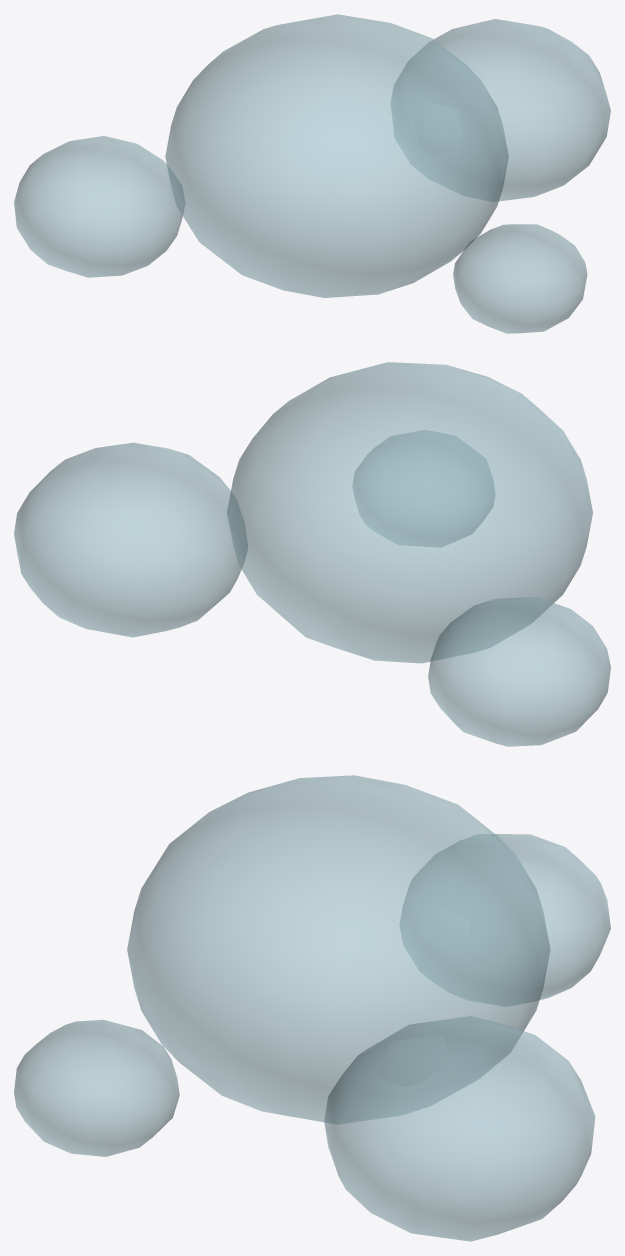
File: glade_dewdrop_cluster_lod1.glb
3 renders of one model, top to bottom at view 1: azimuth 30°, elevation 25°; view 2: azimuth 150°, elevation 25°; view 3: azimuth 270°, elevation 25°, orthographic. The views are drawn at different scales.
Visible parts, largest first — view 1: glade_dewdrop_cluster.001; view 2: glade_dewdrop_cluster.001; view 3: glade_dewdrop_cluster.001.
Part boxes in pixels (bbox=[...]): glade_dewdrop_cluster.001: bbox=[14, 14, 610, 333]; glade_dewdrop_cluster.001: bbox=[14, 362, 610, 746]; glade_dewdrop_cluster.001: bbox=[14, 775, 610, 1241].
Bounding box in the file's own units: 5.71 × 2.4 × 4.34.
